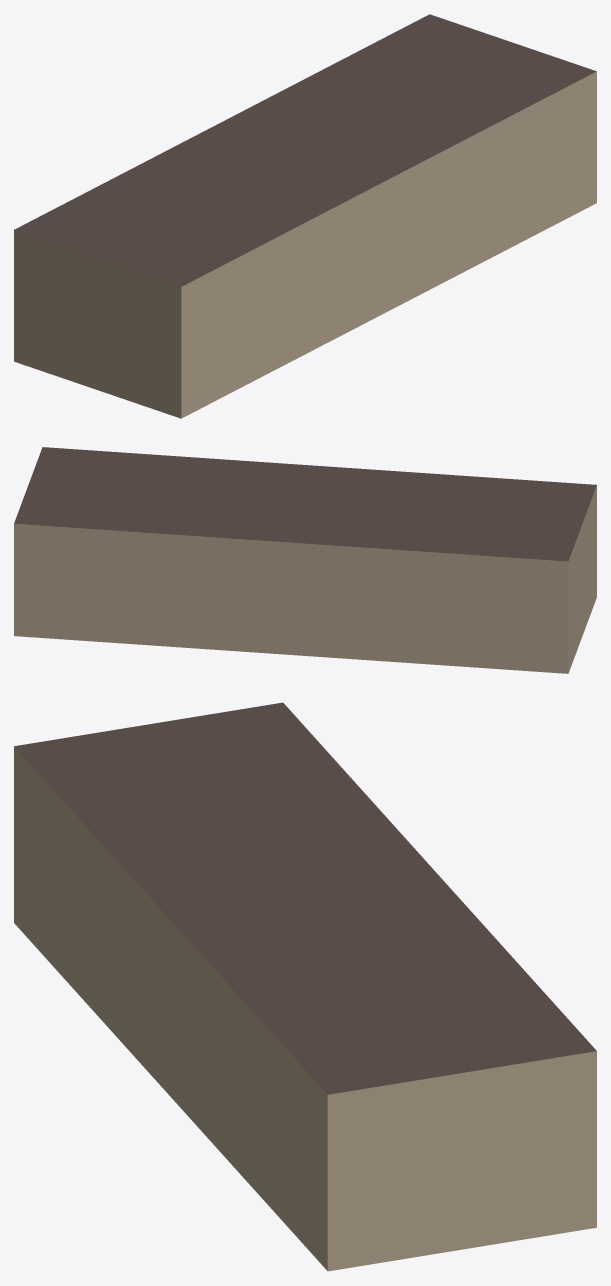
The picture shows the model from 3 angles, top to bottom: view 1: azimuth 30°, elevation 25°; view 2: azimuth 150°, elevation 25°; view 3: azimuth 270°, elevation 25°; orthographic projection. The views are drawn at different scales.
Parts seen in each view (by area): view 1: HP-w859467781; view 2: HP-w859467781; view 3: HP-w859467781.
Boxes of the visible parts, x1,y1,x2,y2 form: HP-w859467781: [14, 14, 596, 418]; HP-w859467781: [14, 447, 596, 673]; HP-w859467781: [14, 702, 596, 1271].
Size of the model in its own units: 42.87 by 9 by 26.92.
